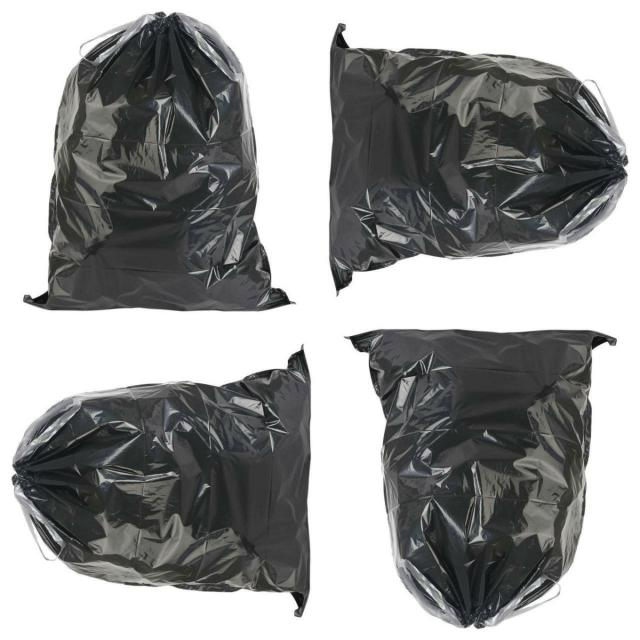Single-layer Plastic: (330, 25, 628, 290), (12, 350, 310, 615), (25, 12, 289, 310), (351, 330, 615, 628)
